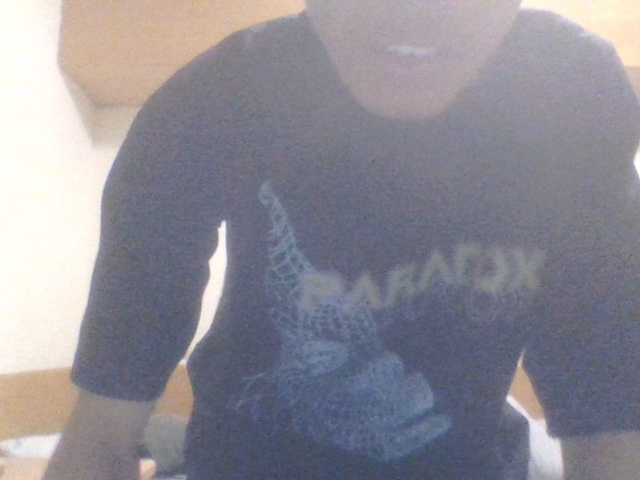human: (41, 2, 640, 480)
